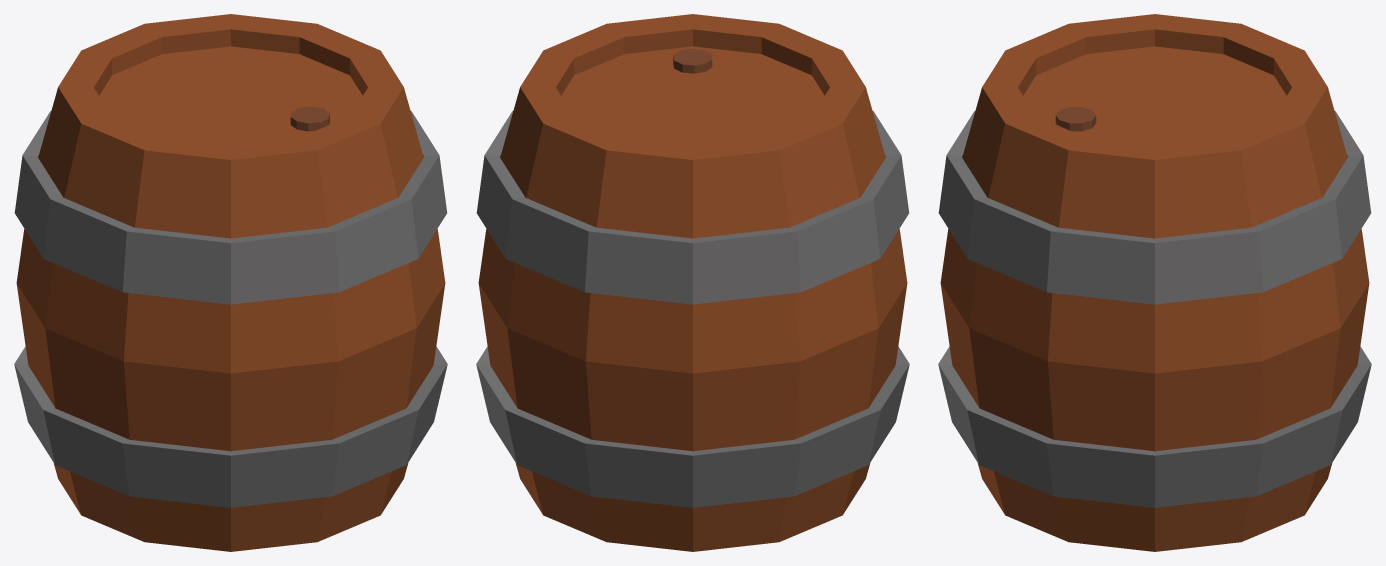
Rendered from barrel.fbx.
The picture shows the model from 3 angles, left to right: view 1: azimuth 30°, elevation 25°; view 2: azimuth 150°, elevation 25°; view 3: azimuth 270°, elevation 25°; orthographic projection.
Visible parts, largest first — view 1: Circle, Circle.001, Cylinder; view 2: Circle, Circle.001, Cylinder; view 3: Circle, Circle.001, Cylinder.
Part boxes in pixels (x1=…): Circle: x1=16, y1=14, x2=445, y2=551; Circle.001: x1=14, y1=111, x2=447, y2=507; Cylinder: x1=290, y1=106, x2=329, y2=131; Circle: x1=478, y1=14, x2=907, y2=551; Circle.001: x1=476, y1=111, x2=909, y2=507; Cylinder: x1=673, y1=48, x2=712, y2=73; Circle: x1=940, y1=14, x2=1369, y2=551; Circle.001: x1=938, y1=111, x2=1371, y2=507; Cylinder: x1=1055, y1=107, x2=1096, y2=131.
Size of the model in its own units: 251 by 250 by 251.
